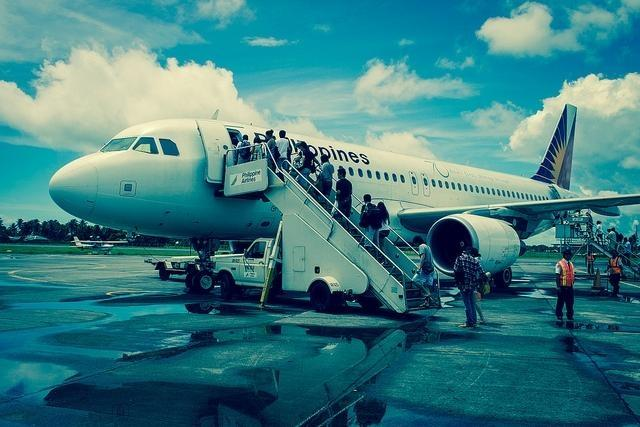truck: (211, 214, 382, 314)
